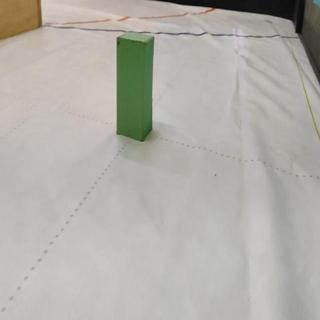greenbox: (115, 29, 155, 144)
